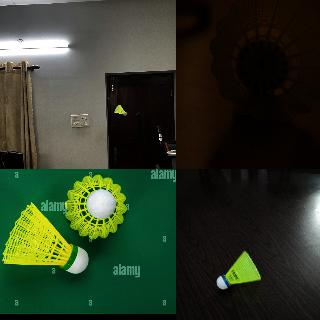shuttlecock: (210, 0, 319, 122), (2, 202, 88, 274), (65, 175, 127, 239), (216, 250, 262, 288), (114, 104, 126, 116)
